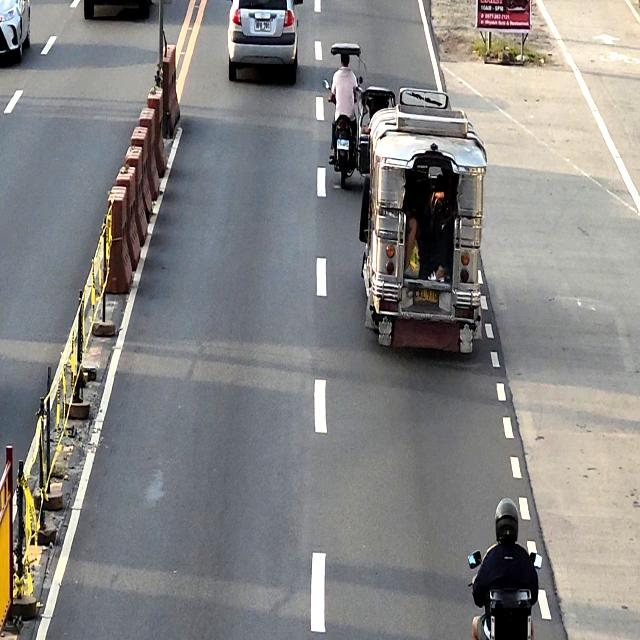Car: (227, 0, 297, 83), (0, 0, 30, 59)
Jeep: (361, 104, 487, 364)
License-Plate: (413, 287, 439, 306), (254, 21, 271, 32), (337, 139, 349, 150)
Tricycle: (321, 42, 397, 188)
